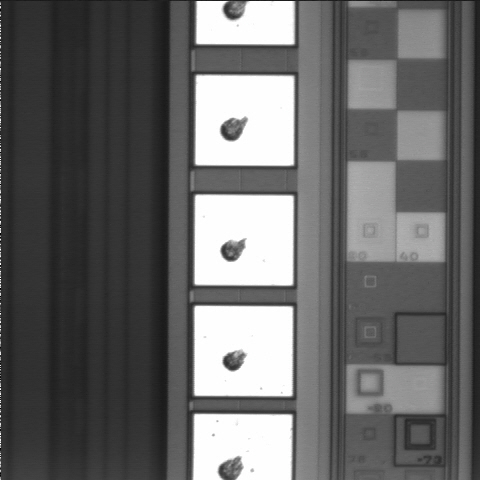pad: (195, 75, 294, 166), (194, 306, 293, 396), (195, 195, 293, 285)
